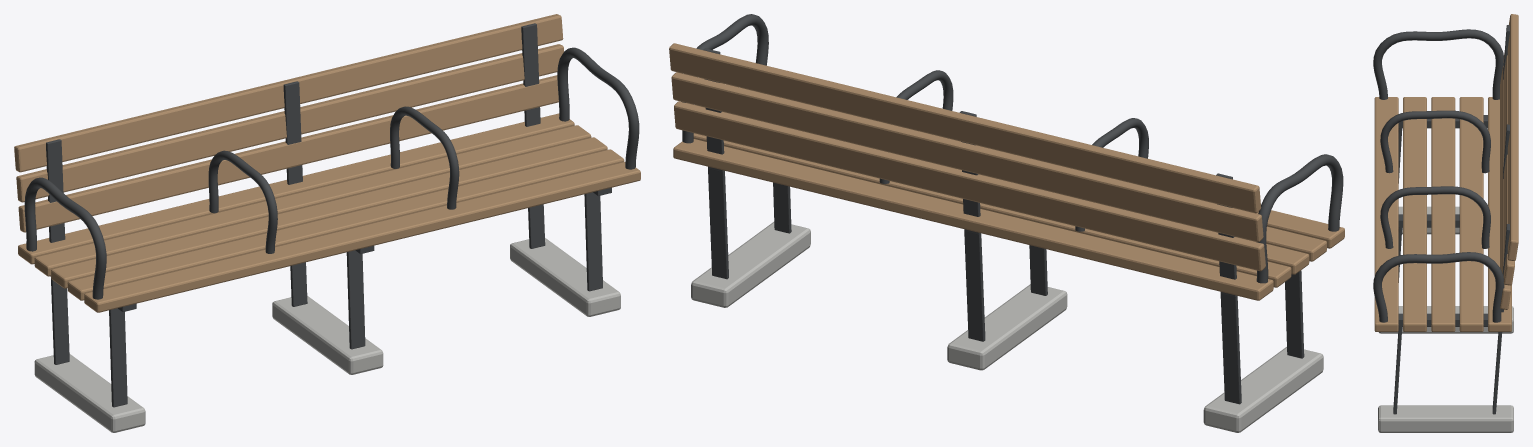
Rendered from city-divided-park-bench.glb.
3 views of the same model, side by side, from view 1: azimuth 30°, elevation 25°; view 2: azimuth 150°, elevation 25°; view 3: azimuth 270°, elevation 25° (orthographic). The views are drawn at different scales.
Visible parts, largest first — view 1: Assembly | Thermally modified ash slats, Assembly | Graphite powder-coated steel, Assembly | Precast concrete foot; view 2: Assembly | Thermally modified ash slats, Assembly | Graphite powder-coated steel, Assembly | Precast concrete foot; view 3: Assembly | Thermally modified ash slats, Assembly | Graphite powder-coated steel, Assembly | Precast concrete foot.
Part boxes in pixels (x1,y1,x2,y2): Assembly | Thermally modified ash slats: (14,14,640,312); Assembly | Graphite powder-coated steel: (24,23,639,407); Assembly | Precast concrete foot: (34,238,620,432); Assembly | Thermally modified ash slats: (669,43,1344,300); Assembly | Graphite powder-coated steel: (681,14,1343,404); Assembly | Precast concrete foot: (691,221,1323,432); Assembly | Thermally modified ash slats: (1374,14,1518,331); Assembly | Graphite powder-coated steel: (1373,25,1509,414); Assembly | Precast concrete foot: (1378,206,1513,432).
Size of the model in its own units: 1.9 by 0.7809 by 0.5132.
